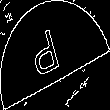P_S: (36, 25, 74, 85)
